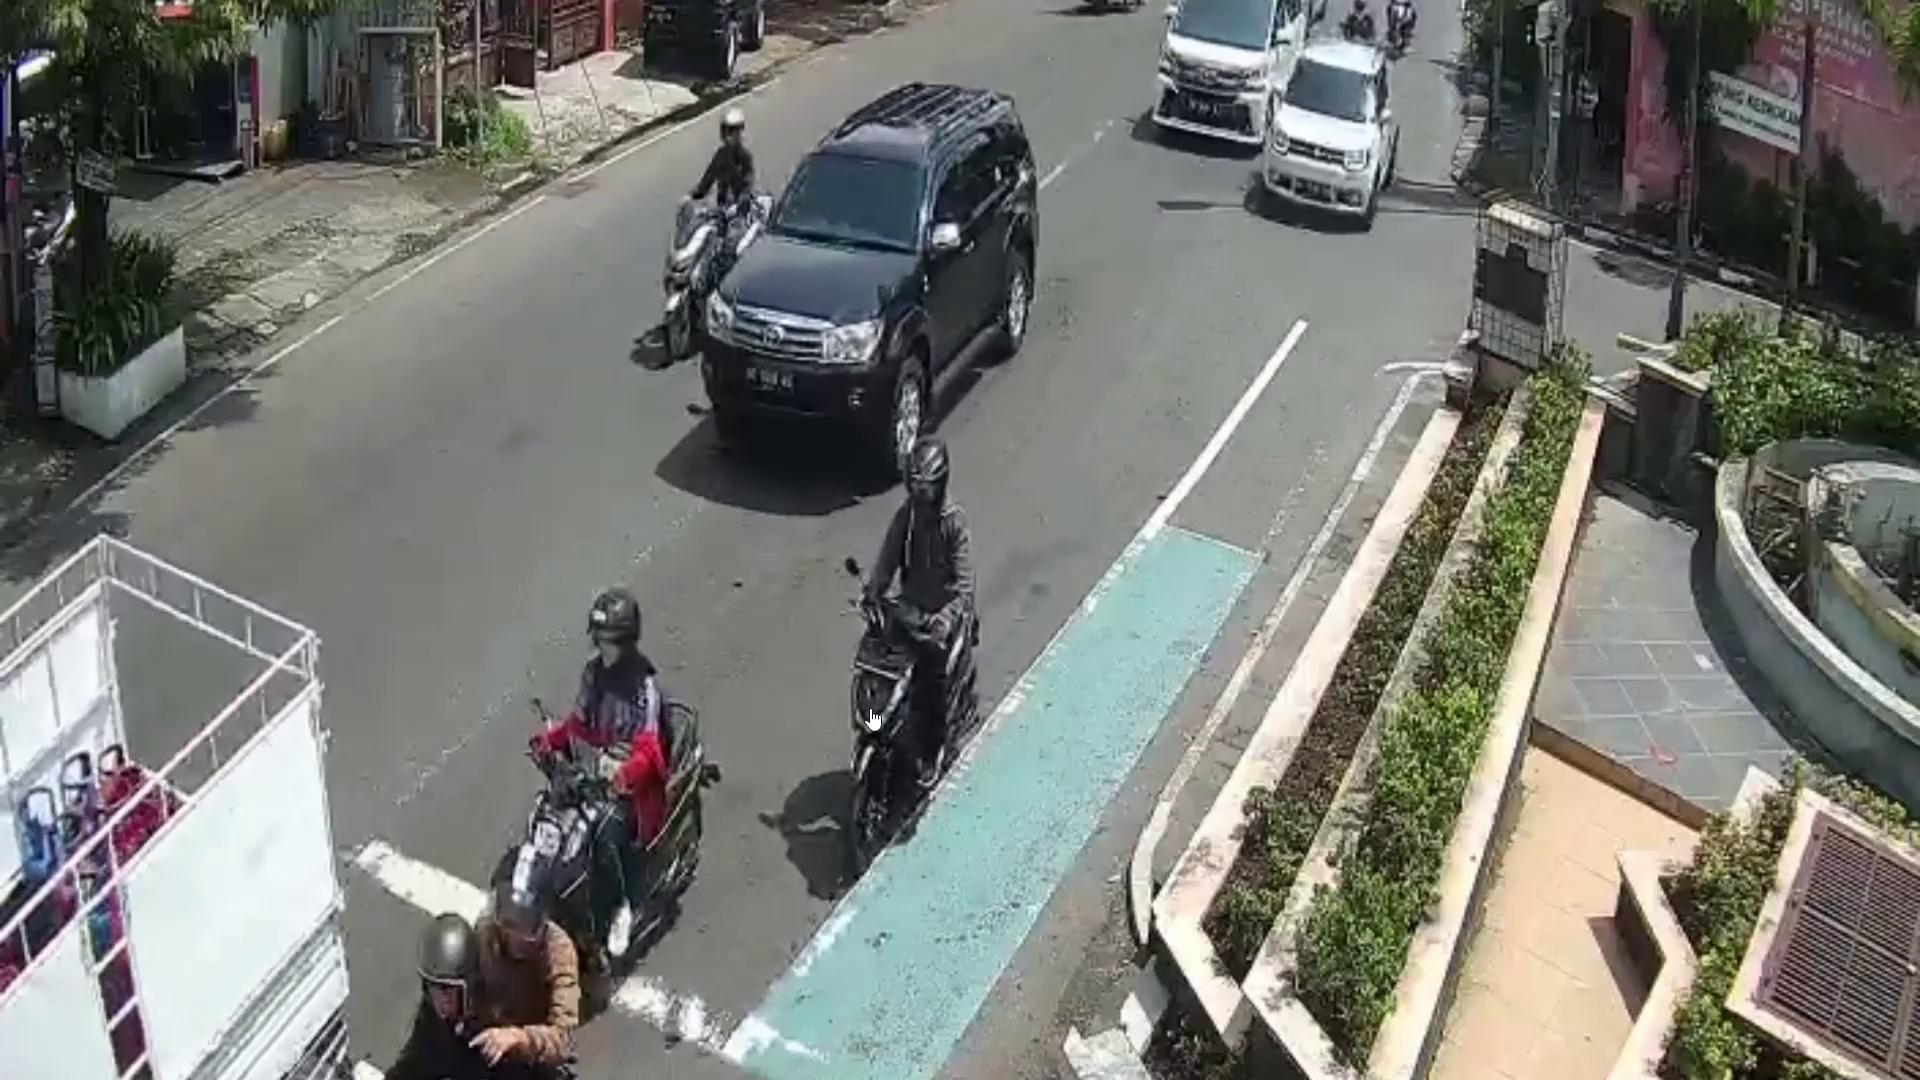car: (703, 78, 1036, 476), (1263, 38, 1402, 233), (1151, 0, 1307, 148)
motorbike: (501, 700, 704, 909), (837, 585, 977, 866), (659, 185, 775, 365)
truck: (0, 517, 351, 1080)
